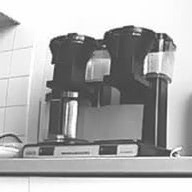empty coffee: (39, 86, 95, 147)
